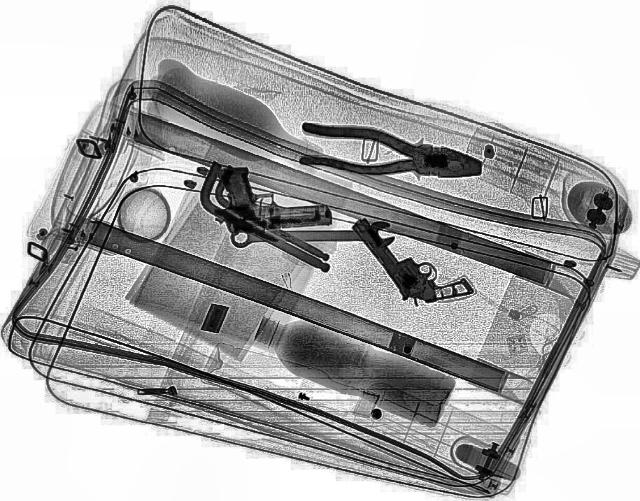Gun: (344, 200, 476, 316), (208, 162, 334, 234)
Pliers: (292, 120, 488, 188)
Wrench: (228, 220, 396, 252)
